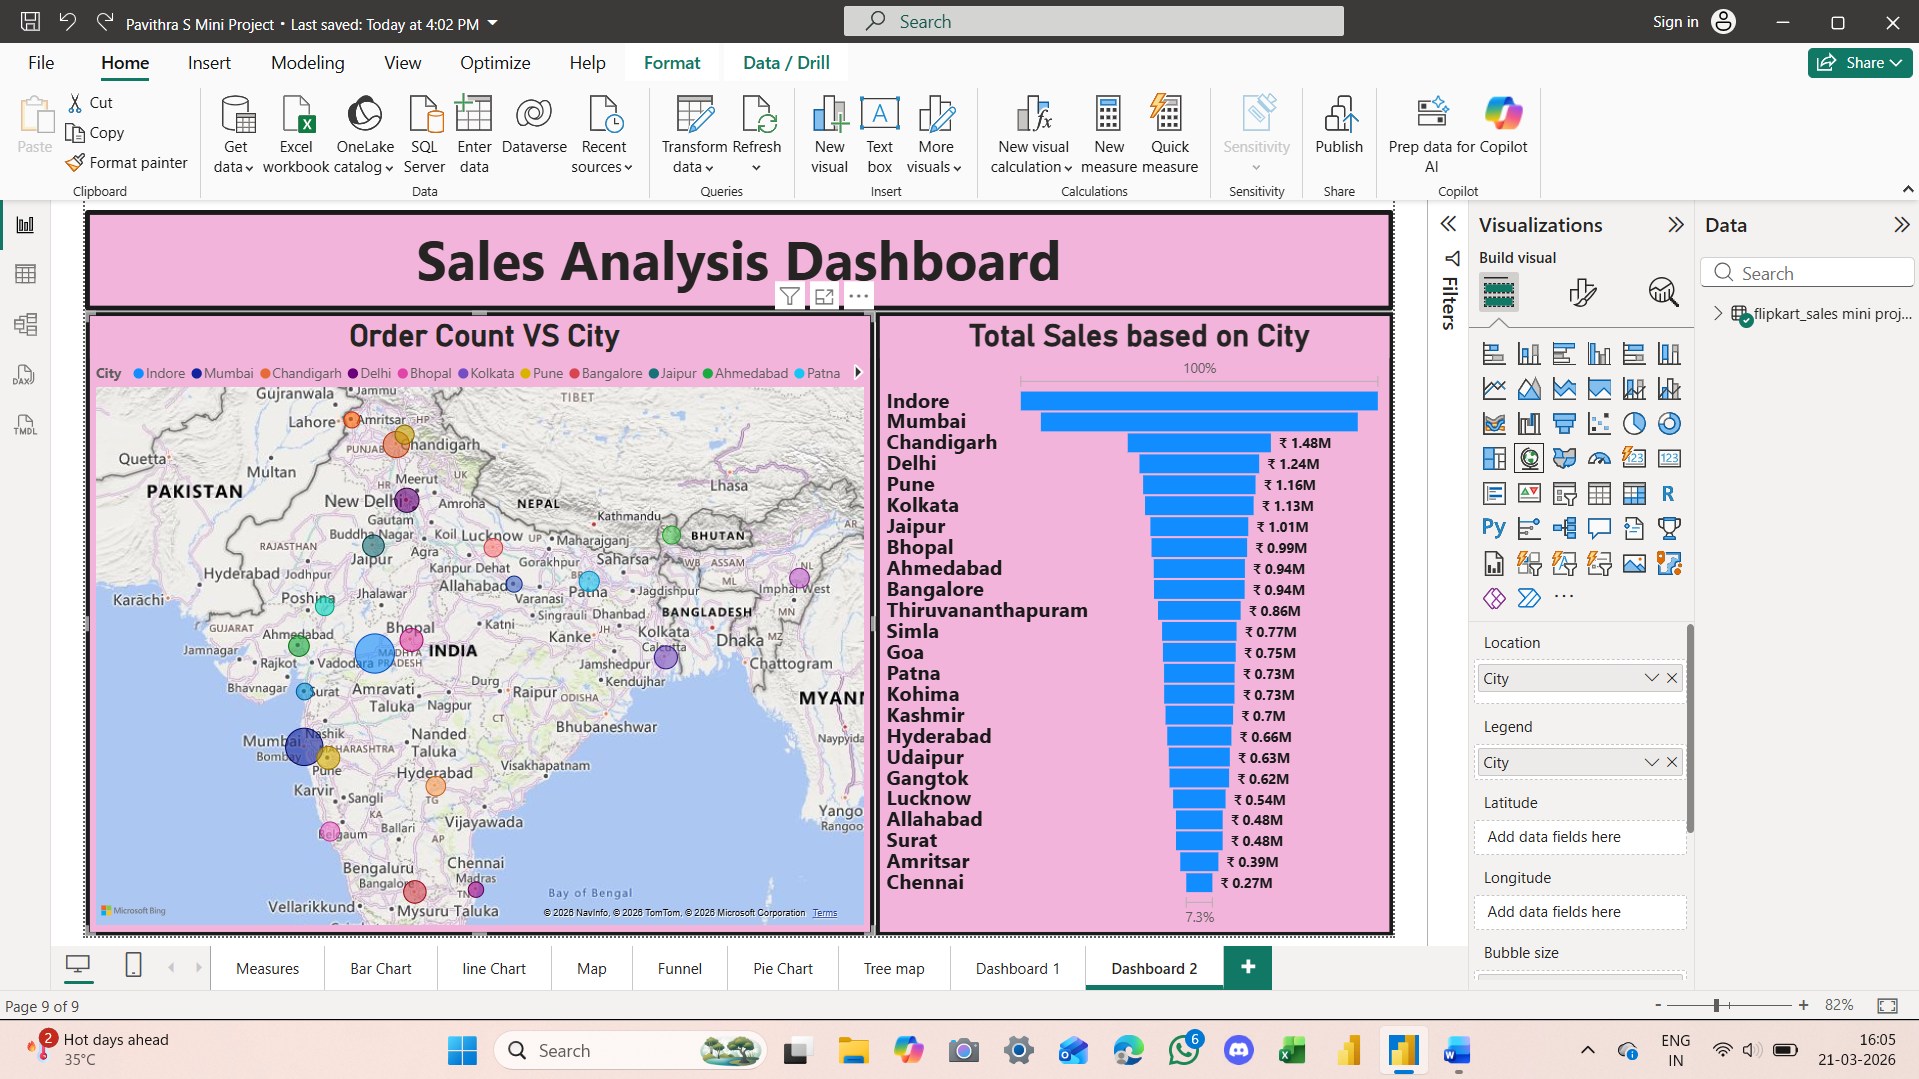

Layout of this report page (visuals, bound fields, positions):
{"tool":"powerbi","page":{"name":"Dashboard 2","canvas":[1280,720],"ordinal":8},"visuals":[{"type":"map","title":"Order Count VS City","fields":{"Series":["flipkart_sales mini project.City "],"Size":["flipkart_sales mini project.Order count"],"Category":["flipkart_sales mini project.City "]},"box":[0,108.4,772.6,612],"z":0},{"type":"funnel","title":"Total Sales based on City","fields":{"Y":["Sum(flipkart_sales mini project.Price (INR))"],"Category":["flipkart_sales mini project.City "]},"box":[772.6,108.4,507.7,612],"z":1000},{"type":"textbox","box":[0,9.6,1280.3,98.8],"z":2000}]}

Visuals, with their boxes on the page's 1280x720 design canvas (x1, y1, x2, y2). These are canvas units, not pixel positions in the 1919x1079 screenshot, which may show the page scaled, cropped or inside an application window:
"Order Count VS City" map: region(0, 108, 773, 720)
"Total Sales based on City" funnel: region(773, 108, 1280, 720)
textbox: region(0, 10, 1280, 108)
